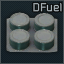Dry fuel: (0, 0, 64, 64)
